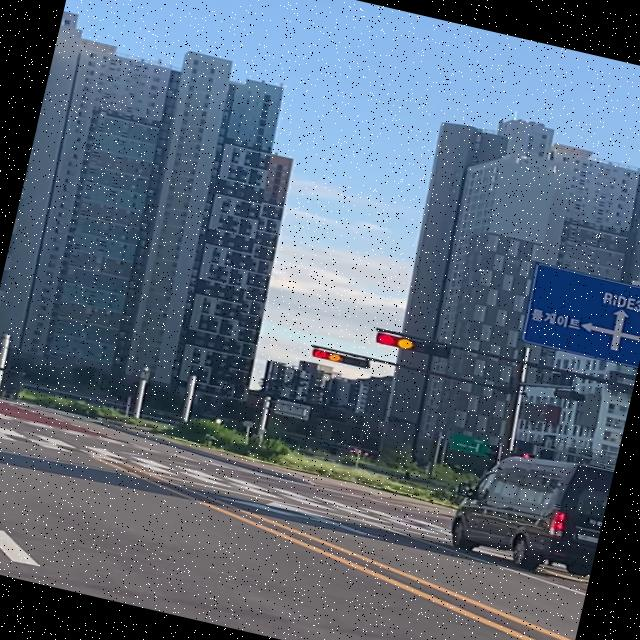yellow_light: (374, 331, 450, 359), (311, 347, 370, 369)
